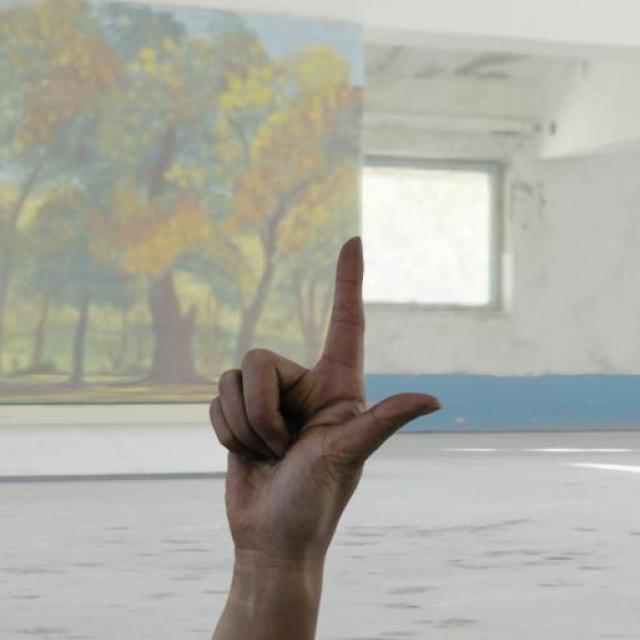L: (206, 233, 445, 563)
